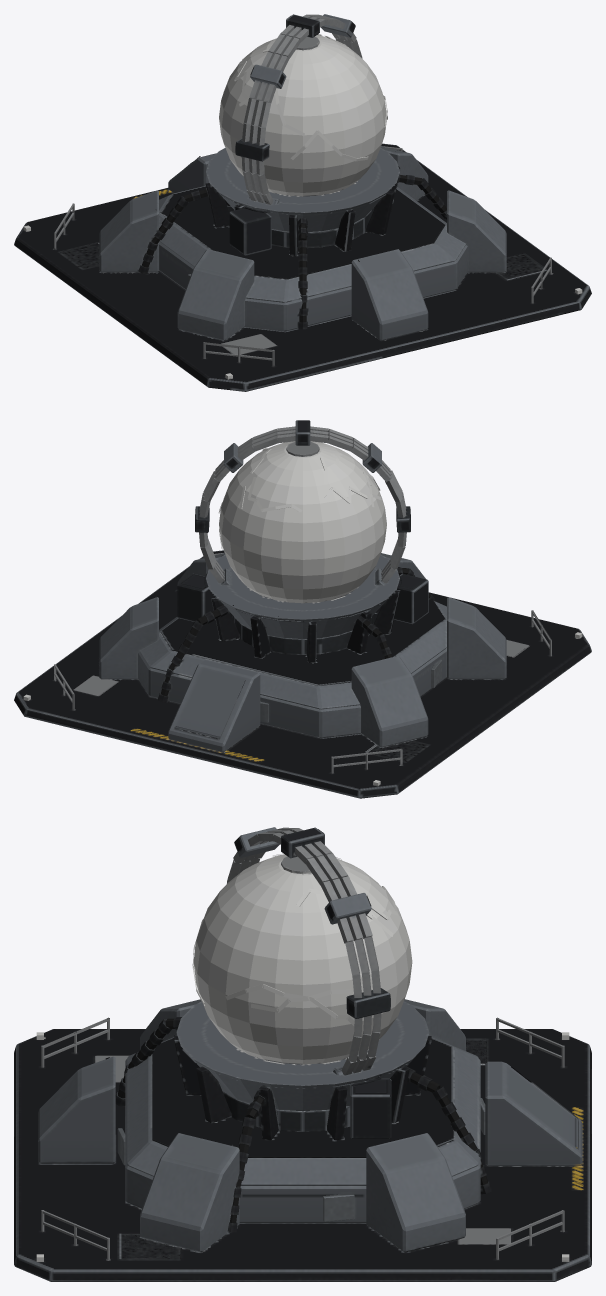
Rendered from chs_advfusion.fbx.
The picture shows the model from 3 angles, top to bottom: view 1: azimuth 30°, elevation 25°; view 2: azimuth 150°, elevation 25°; view 3: azimuth 270°, elevation 25°; orthographic projection. The views are drawn at different scales.
Parts seen in each view (by area): view 1: base_bar, core_glow_power_bar, core_glow_head_bar; view 2: base_bar, core_glow_power_bar, core_glow_head_bar; view 3: base_bar, core_glow_power_bar, core_glow_head_bar.
Boxes of the visible parts, <box> form: base_bar: <box>14,14,591,391</box>; core_glow_power_bar: <box>219,35,386,196</box>; core_glow_head_bar: <box>234,34,387,161</box>; base_bar: <box>14,420,591,798</box>; core_glow_power_bar: <box>219,441,386,603</box>; core_glow_head_bar: <box>218,448,381,549</box>; base_bar: <box>14,827,591,1281</box>; core_glow_power_bar: <box>193,854,412,1064</box>; core_glow_head_bar: <box>192,853,398,1026</box>.
Size of the model in its own units: 4754 by 3155 by 4754.
Materials: 2 (2 with a texture image).
